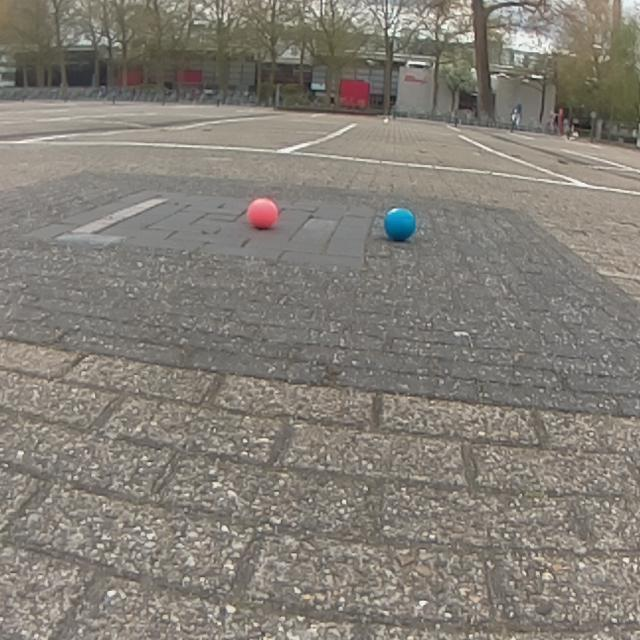ball: (382, 204, 421, 242)
